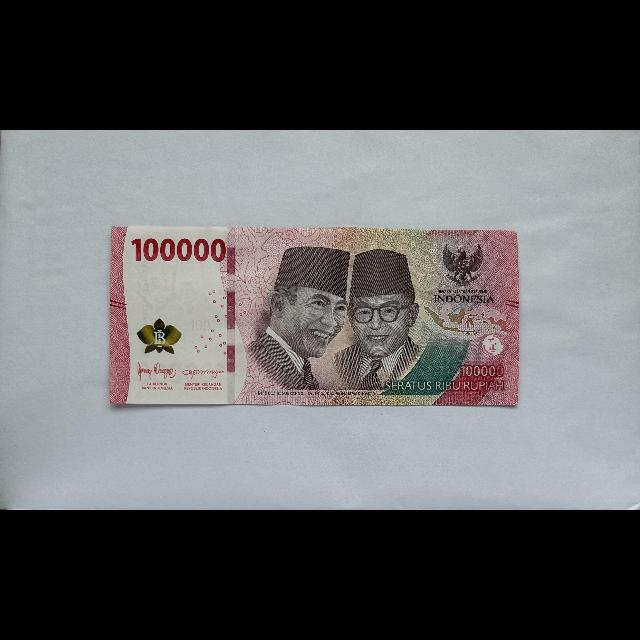Asli-100k: (108, 224, 521, 408)
Tinta-Asli-100k: (136, 317, 182, 355)
